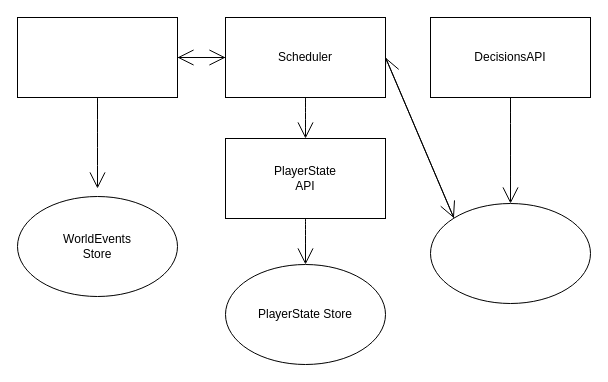
This 608x382 diagram has some shape labels left out. Each missing label, with the box of its shape:
PlayerDecisions Store: (430, 202, 590, 304)
World Events Engine: (16, 16, 178, 98)
